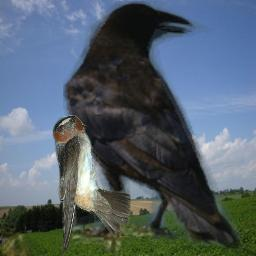Crow: (63, 1, 243, 256)
Swallow: (52, 115, 131, 256)
